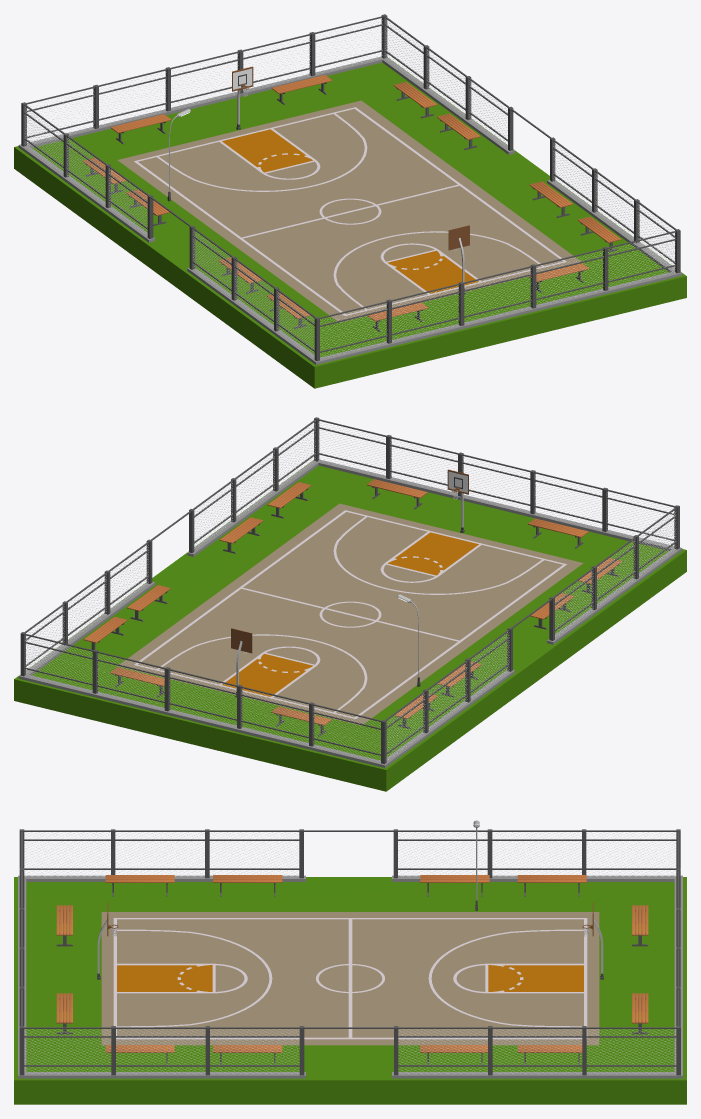
File: basketball_court.dae
The picture shows the model from 3 angles, top to bottom: view 1: azimuth 30°, elevation 25°; view 2: azimuth 150°, elevation 25°; view 3: azimuth 270°, elevation 25°; orthographic projection. The views are drawn at different scales.
Visible parts, largest first — view 1: Cube, Cube.006, Cube.005, Cube.001, Cylinder.001, Cube.020, Cube.019, Cube.016, Cube.018; view 2: Cube, Cube.006, Cube.005, Cube.001, Cylinder.001, Cube.021, Cube.022, Cube.016, Cube.015, Cube.017; view 3: Cube, Cube.006, Cube.005, Cube.001, Cylinder.001, Cube.003, Cube.004, Cube.014, Cube.002, Cube.019, Cube.021, Cube.016 (+5 smaller).
Boxes of the visible parts, left/top/right/bottom form: Cube: left=14, top=57, right=686, bottom=388; Cube.006: left=24, top=18, right=675, bottom=357; Cube.005: left=21, top=14, right=680, bottom=361; Cube.001: left=18, top=56, right=682, bottom=364; Cylinder.001: left=232, top=66, right=469, bottom=294; Cube.020: left=271, top=75, right=332, bottom=104; Cube.019: left=110, top=114, right=171, bottom=144; Cube.016: left=529, top=181, right=572, bottom=217; Cube.018: left=393, top=82, right=436, bottom=118; Cube: left=14, top=460, right=686, bottom=791; Cube.006: left=25, top=421, right=676, bottom=761; Cube.005: left=20, top=417, right=679, bottom=764; Cube.001: left=18, top=459, right=682, bottom=767; Cylinder.001: left=231, top=469, right=468, bottom=697; Cube.021: left=528, top=518, right=588, bottom=548; Cube.022: left=367, top=479, right=427, bottom=509; Cube.016: left=219, top=517, right=263, bottom=553; Cube.015: left=127, top=585, right=170, bottom=621; Cube.017: left=267, top=482, right=311, bottom=518; Cube: left=14, top=877, right=686, bottom=1104; Cube.006: left=24, top=832, right=676, bottom=1073; Cube.005: left=19, top=829, right=680, bottom=1075; Cube.001: left=18, top=875, right=682, bottom=1078; Cylinder.001: left=97, top=902, right=603, bottom=979; Cube.003: left=213, top=875, right=282, bottom=896; Cube.004: left=105, top=875, right=174, bottom=896; Cube.014: left=517, top=875, right=586, bottom=896; Cube.002: left=420, top=875, right=489, bottom=896; Cube.019: left=632, top=905, right=648, bottom=946; Cube.021: left=56, top=905, right=72, bottom=946; Cube.016: left=213, top=1045, right=282, bottom=1064.
Size of the model in its own units: 23.98 by 33.53 by 6.69.
